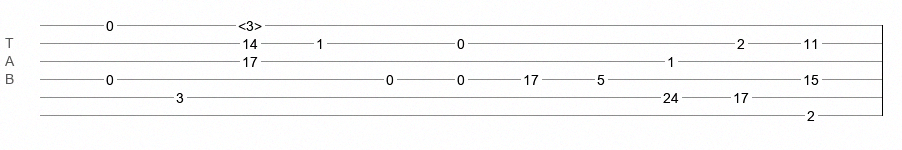0: (106, 18, 114, 28), (106, 72, 114, 82), (386, 72, 394, 82), (457, 36, 465, 46), (457, 72, 465, 82)
1: (316, 36, 324, 46), (667, 54, 675, 64)
11: (803, 36, 819, 46)
14: (242, 36, 258, 46)
15: (803, 72, 819, 82)
17: (242, 54, 258, 64), (523, 72, 539, 82), (733, 90, 749, 100)
2: (737, 36, 745, 46), (807, 108, 815, 118)
24: (663, 90, 679, 100)
3: (176, 90, 184, 100)
5: (597, 72, 605, 82)
harmonic: (238, 18, 262, 28)
